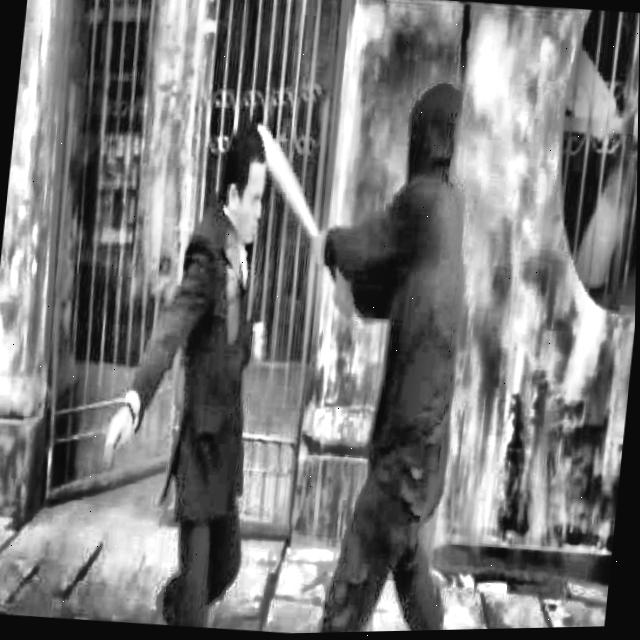robbery: (80, 73, 474, 633)
tongkat pemukul: (231, 107, 375, 329)
